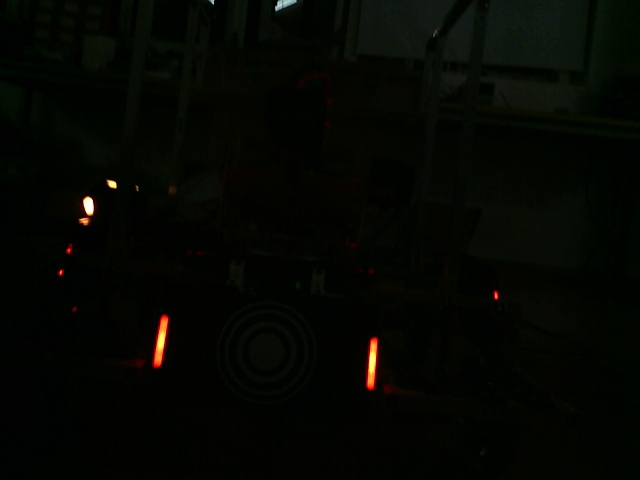lamp: (150, 310, 170, 371), (363, 333, 381, 395)
